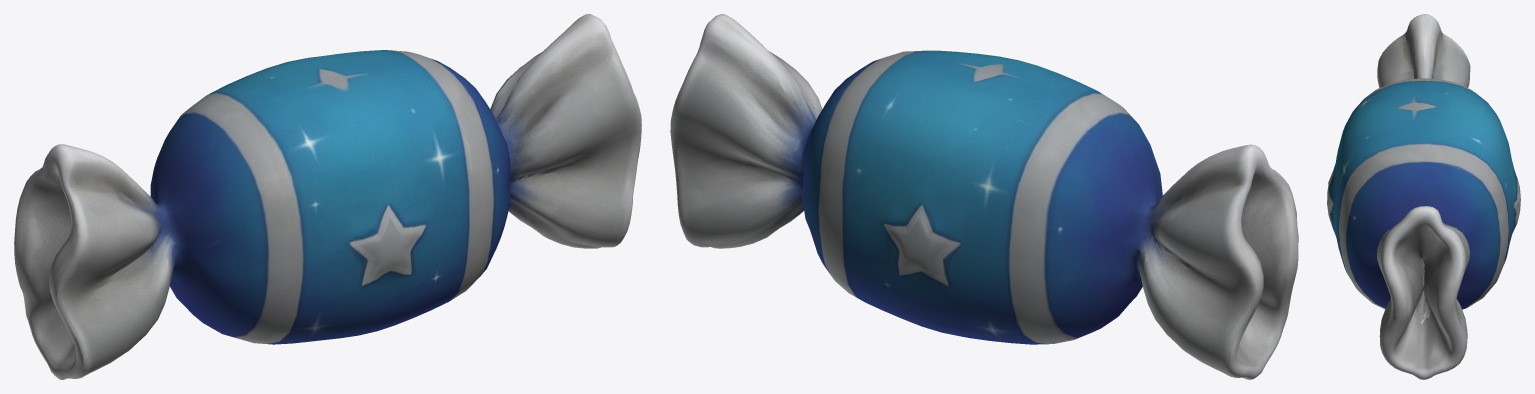
The model's file is great_candy.glb.
The picture shows the model from 3 angles, left to right: view 1: azimuth 30°, elevation 25°; view 2: azimuth 150°, elevation 25°; view 3: azimuth 270°, elevation 25°; orthographic projection. The views are drawn at different scales.
Visible parts, largest first — view 1: Mesh_0; view 2: Mesh_0; view 3: Mesh_0.
Part boxes in pixels (<box>): Mesh_0: <box>14,14,641,379</box>; Mesh_0: <box>670,14,1298,379</box>; Mesh_0: <box>1327,14,1520,379</box>.
Bounding box in the file's own units: 0.25 × 0.0996 × 0.0961.
Materials: 1 (1 with a texture image).
